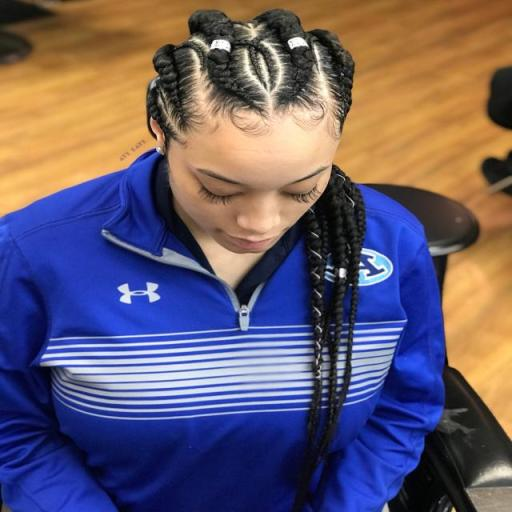Under Armour: (113, 278, 163, 306)
